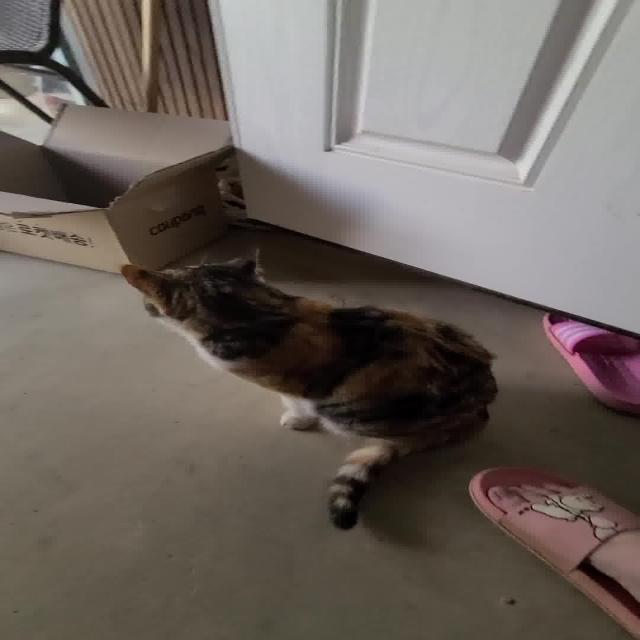cat: (88, 222, 490, 540)
